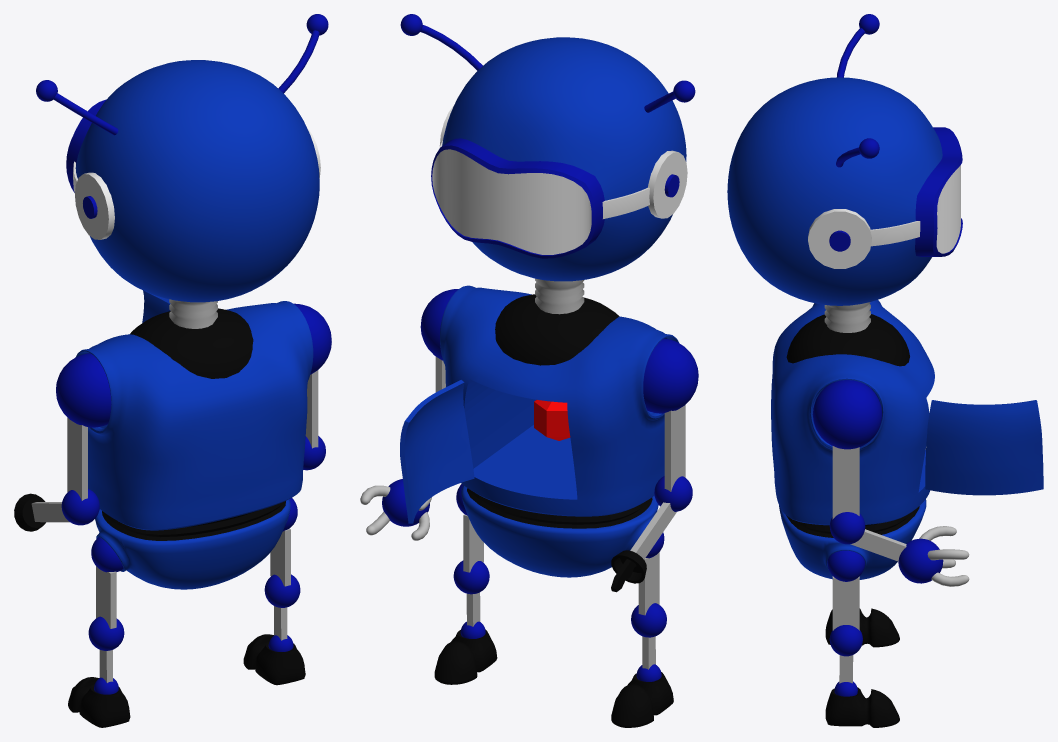
File: BLU2.fbx
3 renders of one model, left to right at view 1: azimuth 30°, elevation 25°; view 2: azimuth 150°, elevation 25°; view 3: azimuth 270°, elevation 25°, orthographic. The views are drawn at different scales.
Visible parts, largest first — view 1: Head, Torso, bottom, Inner Torso, left Shoulder, Left Knee, Head piece, hip, Right Arm, Goggle side, Shoes, Left Legs (+11 smaller); view 2: Torso, Head, Visor, bottom, Chest Door, Inner Torso, Frame, left Shoulder, Left Knee, Goggle side, Right Arm, Shoes (+12 smaller); view 3: Head, Torso, Chest Door, Inner Torso, Right Shoulder, Goggle side, bottom, Frame, Shoes, Upper Arm, Legs, Head piece (+10 smaller).
Boxes of the visible parts, <box> form: Head: <box>76,60,319,302</box>; Torso: <box>75,301,313,530</box>; bottom: <box>95,499,290,589</box>; Inner Torso: <box>130,308,253,378</box>; left Shoulder: <box>56,353,111,427</box>; Left Knee: <box>68,616,130,727</box>; Head piece: <box>36,14,328,218</box>; hip: <box>102,501,285,540</box>; Right Arm: <box>31,417,87,522</box>; Goggle side: <box>73,128,320,239</box>; Shoes: <box>243,634,305,685</box>; Left Legs: <box>96,566,116,682</box>; Torso: <box>440,285,678,516</box>; Head: <box>442,37,686,281</box>; Visor: <box>432,149,591,254</box>; bottom: <box>461,485,658,577</box>; Chest Door: <box>400,380,474,523</box>; Inner Torso: <box>495,294,619,365</box>; Frame: <box>431,138,604,258</box>; left Shoulder: <box>643,338,698,413</box>; Left Knee: <box>611,603,673,727</box>; Goggle side: <box>439,105,687,218</box>; Right Arm: <box>630,405,685,559</box>; Shoes: <box>434,629,497,684</box>; Head: <box>727,77,942,305</box>; Torso: <box>771,300,934,525</box>; Chest Door: <box>925,400,1043,495</box>; Inner Torso: <box>786,314,909,366</box>; Right Shoulder: <box>812,380,882,449</box>; Goggle side: <box>808,209,920,268</box>; bottom: <box>779,499,926,579</box>; Frame: <box>915,127,962,256</box>; Shoes: <box>825,687,899,727</box>; Upper Arm: <box>832,446,859,519</box>; Legs: <box>832,576,859,683</box>; Head piece: <box>829,14,879,251</box>.
Bounding box in the file's own units: 69.68 × 69.99 × 147.
